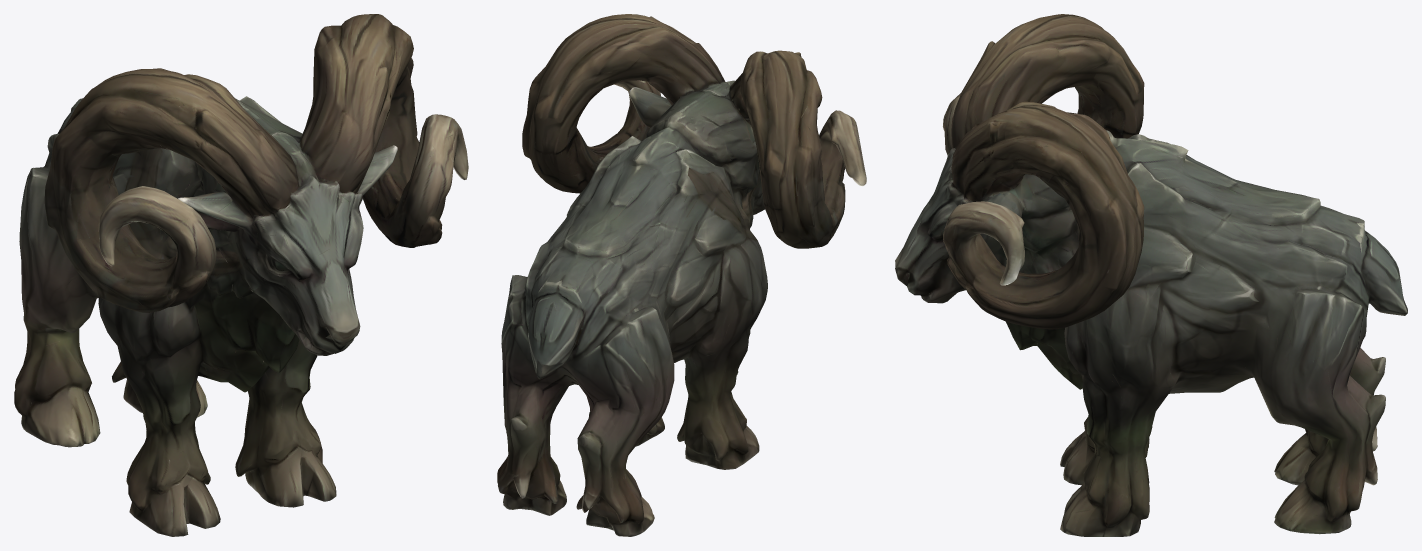
File: mesh_bark_ram_a.glb
3 renders of one model, left to right at view 1: azimuth 30°, elevation 25°; view 2: azimuth 150°, elevation 25°; view 3: azimuth 270°, elevation 25°, orthographic. The views are drawn at different scales.
Parts seen in each view (by area): view 1: Mesh_0; view 2: Mesh_0; view 3: Mesh_0.
Part boxes in pixels (box(x1,y1,x2,y2)): Mesh_0: box(14, 14, 468, 536); Mesh_0: box(497, 14, 866, 536); Mesh_0: box(895, 14, 1407, 536).
Bounding box in the file's own units: 1.43 × 1.76 × 1.9.
1 material, 1 textured.
